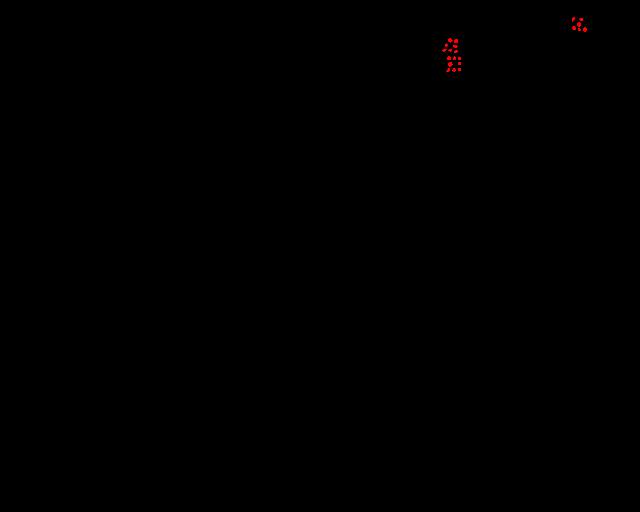Target: (448, 38, 453, 43), (448, 62, 453, 67), (577, 22, 581, 27), (583, 27, 587, 32), (572, 26, 576, 30), (454, 39, 458, 43), (447, 56, 451, 60), (446, 68, 450, 72), (452, 68, 456, 72), (572, 17, 575, 22), (453, 45, 458, 48), (442, 49, 447, 52), (579, 18, 583, 21), (445, 43, 448, 47), (448, 49, 452, 52), (454, 50, 458, 53), (453, 56, 456, 60), (578, 28, 581, 31), (458, 57, 461, 60), (458, 62, 461, 65), (458, 68, 461, 71)
